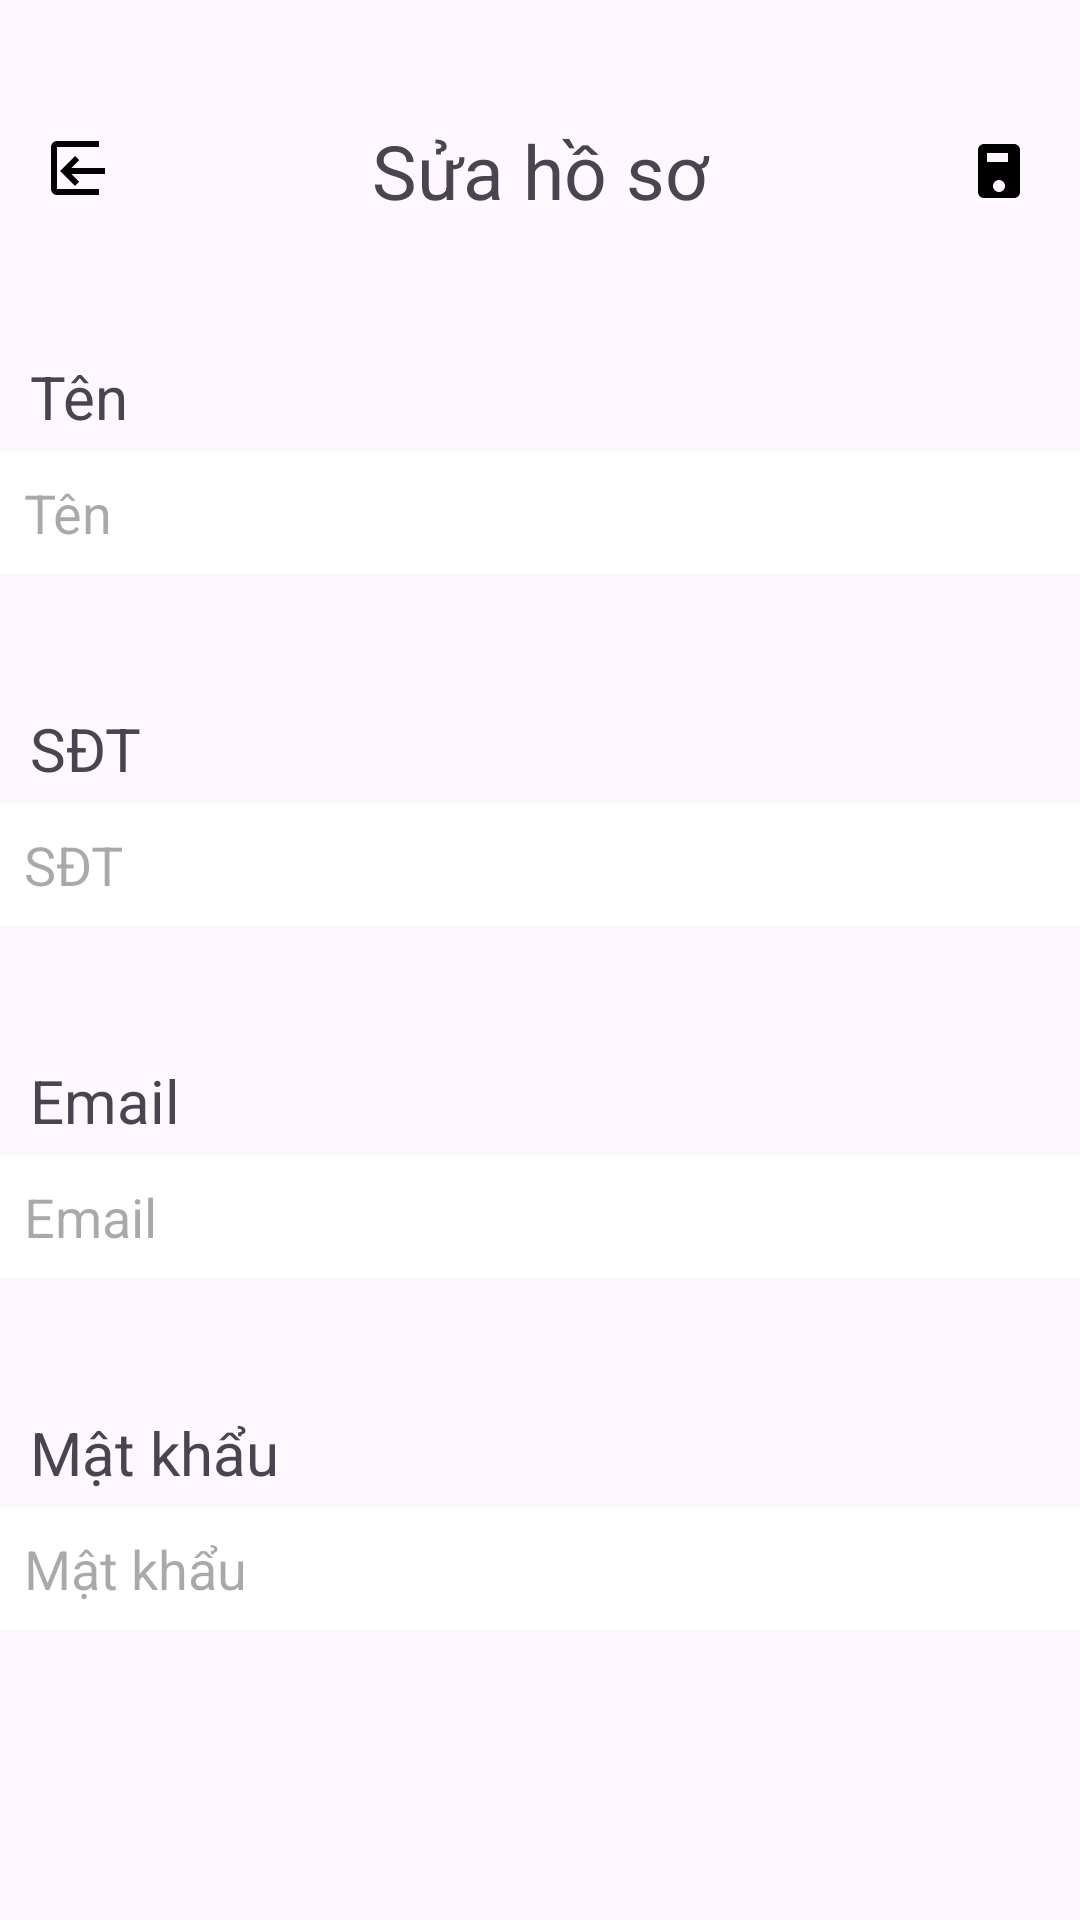

Icons on this 1080 × 1920 Android screen, each with its box as (x1, y1, x2, y2):
exit: (51, 141, 105, 195)
save: (978, 144, 1020, 198)
